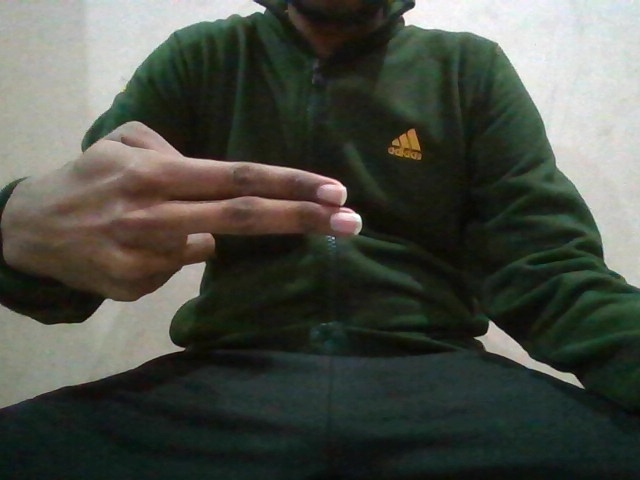H: (12, 119, 372, 303)
